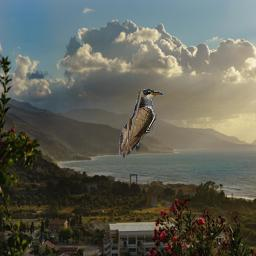Cuckoo: (119, 89, 174, 158)
